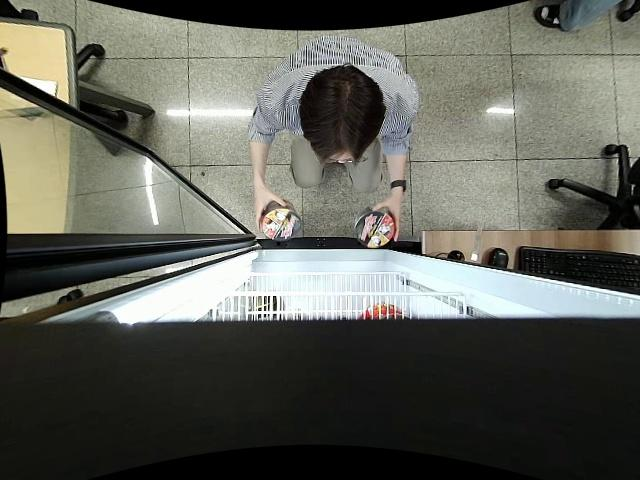00_hand: (253, 184, 286, 230), (370, 198, 401, 243)
07_buldak_L: (356, 208, 395, 247), (262, 201, 300, 241)
